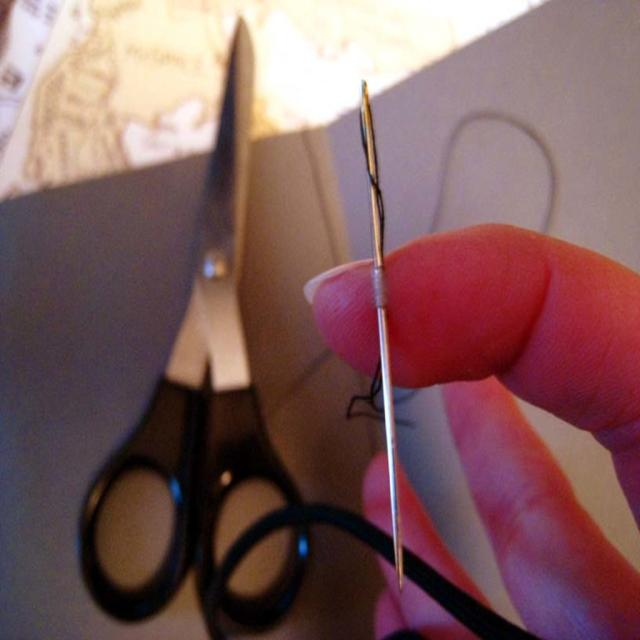scissors: (66, 3, 316, 629)
